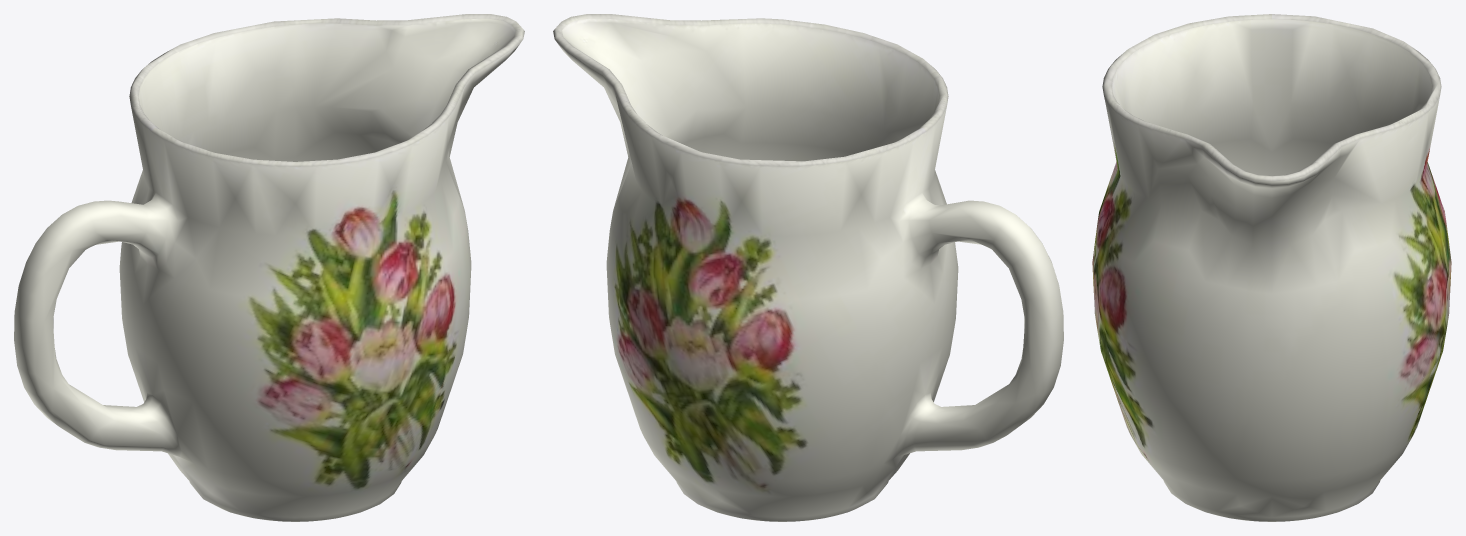
File: cantaro.glb
The picture shows the model from 3 angles, left to right: view 1: azimuth 30°, elevation 25°; view 2: azimuth 150°, elevation 25°; view 3: azimuth 270°, elevation 25°; orthographic projection. The views are drawn at different scales.
Parts seen in each view (by area): view 1: jug_01_1k(Clone); view 2: jug_01_1k(Clone); view 3: jug_01_1k(Clone).
Part boxes in pixels (x1,y1,x2,y2): jug_01_1k(Clone): (14, 14, 524, 521); jug_01_1k(Clone): (553, 14, 1063, 521); jug_01_1k(Clone): (1092, 14, 1451, 521).
Bounding box in the file's own units: 0.275 × 0.2113 × 0.1675.
Materials: 1 (1 with a texture image).
